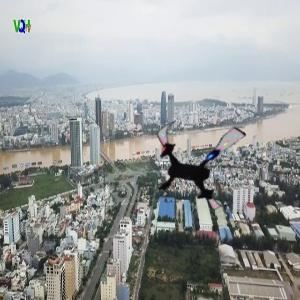drone: (146, 109, 255, 218)
